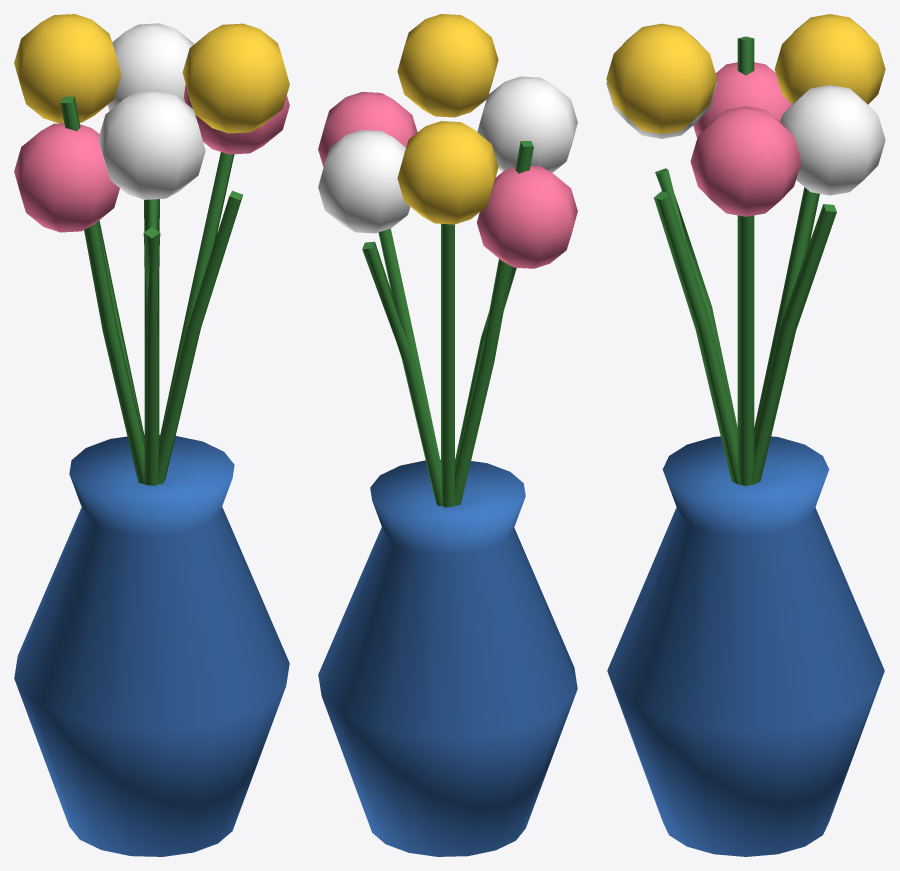
The model's file is vase_flowers.glb.
3 views of the same model, side by side, from view 1: azimuth 30°, elevation 25°; view 2: azimuth 150°, elevation 25°; view 3: azimuth 270°, elevation 25° (orthographic). The views are drawn at different scales.
Parts seen in each view (by area): view 1: main; view 2: main; view 3: main.
Part boxes in pixels (<box>): main: <box>14,14,289,856</box>; main: <box>318,14,577,856</box>; main: <box>606,14,885,856</box>.
Size of the model in its own units: 0.22 by 0.6467 by 0.2012.
